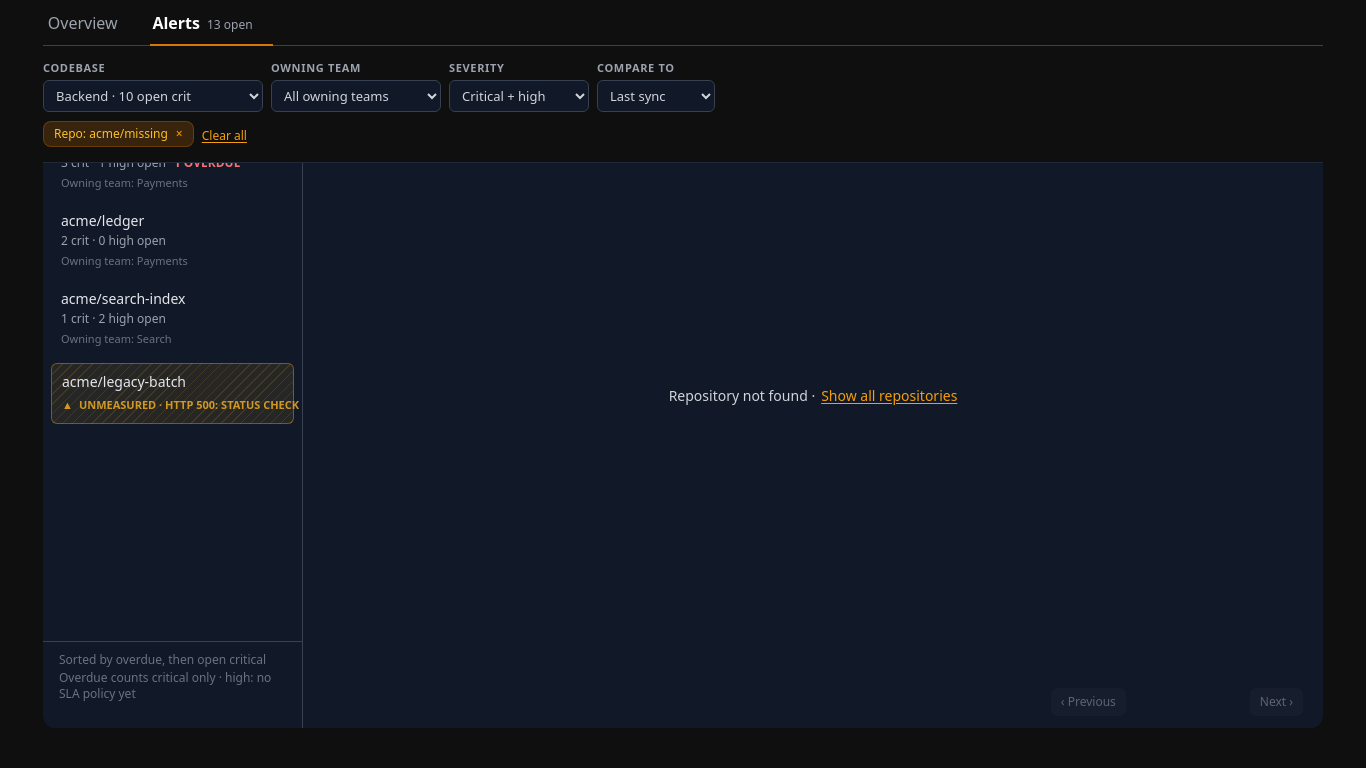
Test case: a repository that cannot be shown › a repository missing from the repos rows shows the inline state, does not send that repo again, and "Show all repositories" clears it
(page scrolled)
Expected: the text "Repository not found ·" is shown, [669,386,815,406]
Click the button "Show all repositories" at (889, 396), box [821,386,957,406]
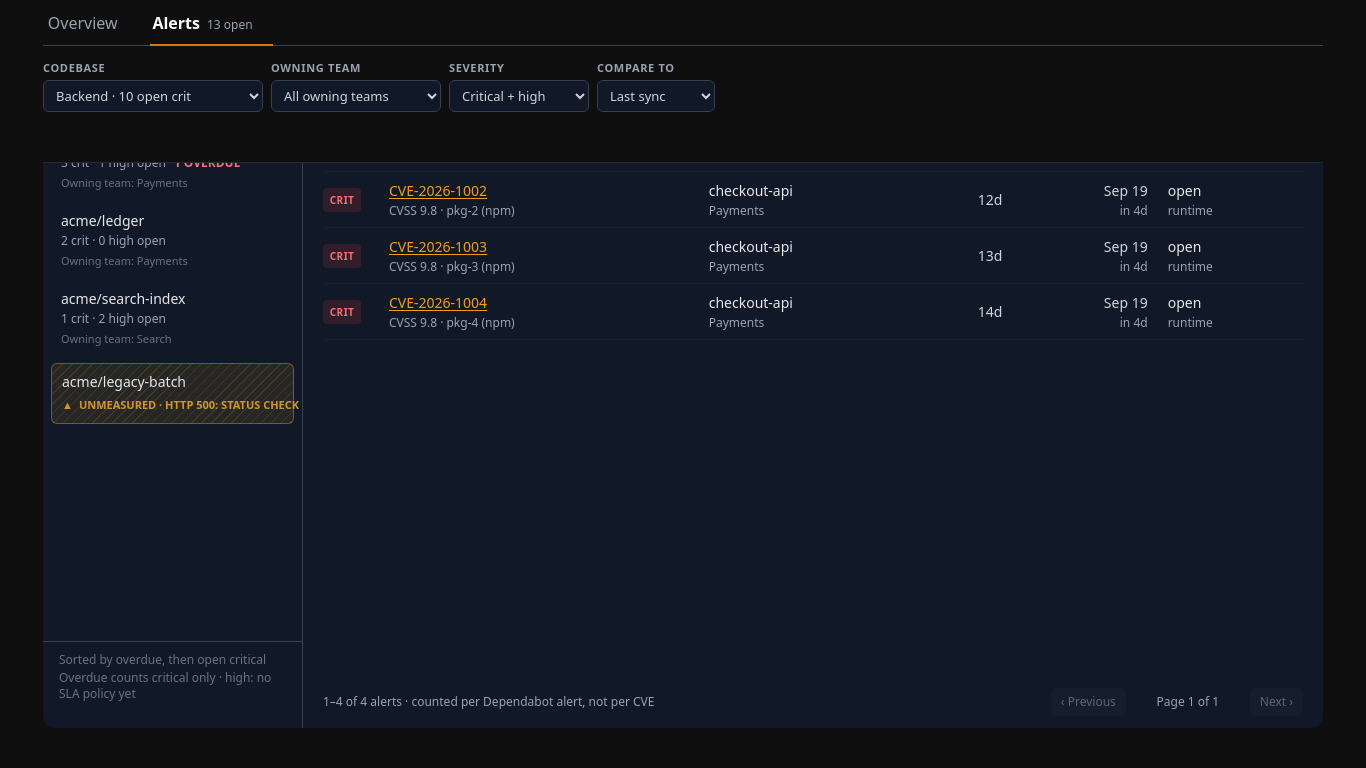
Expected: the text "Repository not found" is gone
